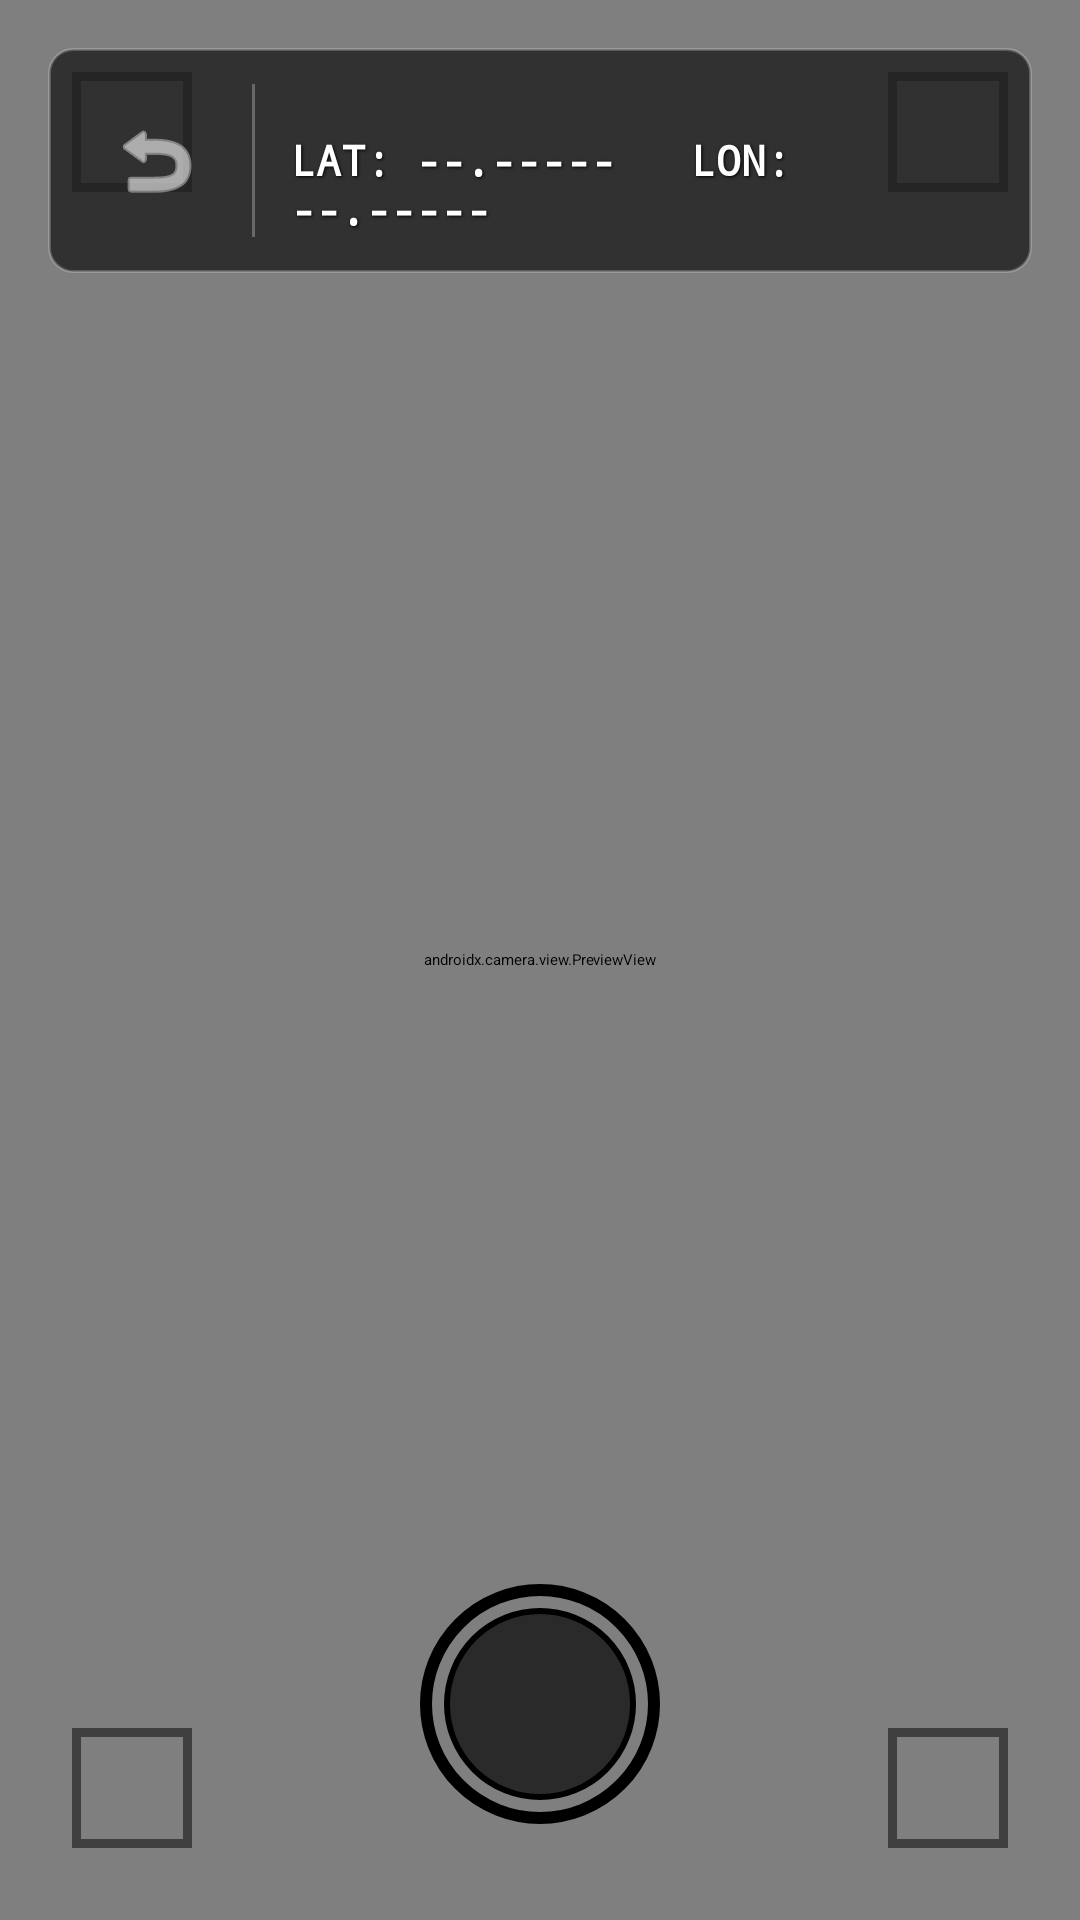

Icons on this 1080w x 1920h Android screen, each with the point to tap as (x=x, y=y):
revert: (x=157, y=161)
